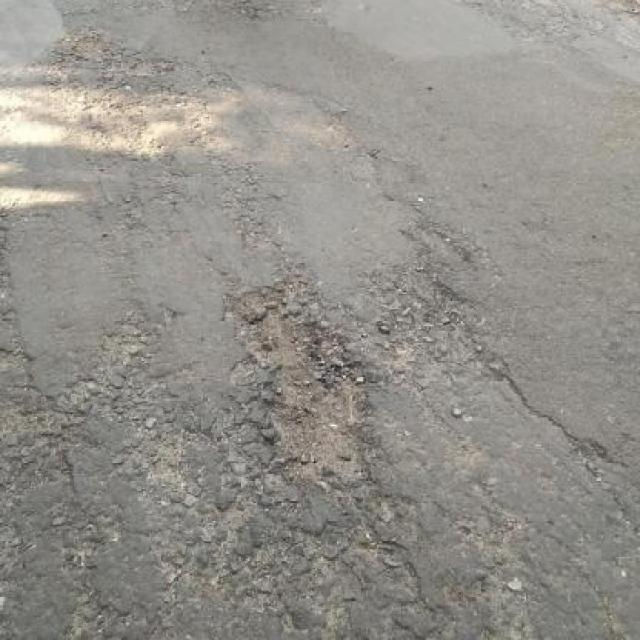Pothole: (217, 277, 378, 490), (372, 272, 470, 356)
